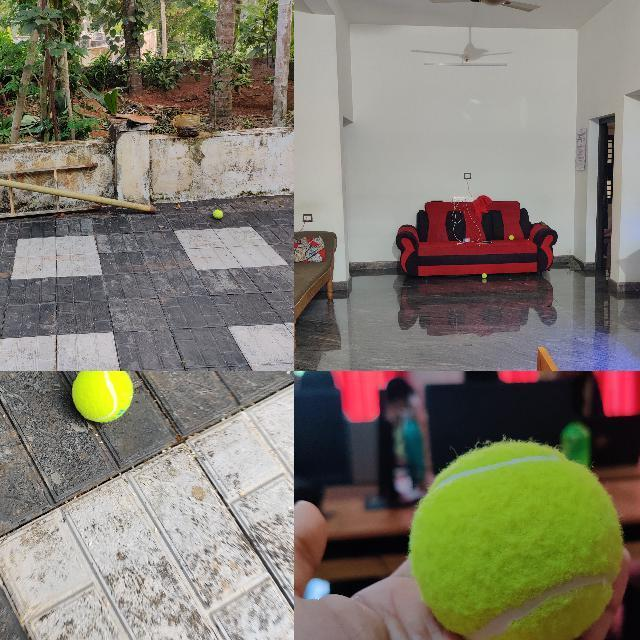tennis-ball: (408, 440, 622, 639), (71, 371, 134, 424), (212, 209, 223, 219), (509, 235, 514, 240), (482, 273, 487, 278)
